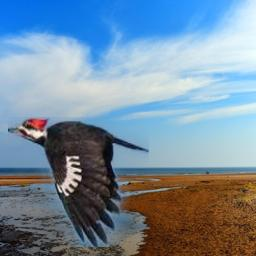Woodpecker: (8, 117, 149, 247)
